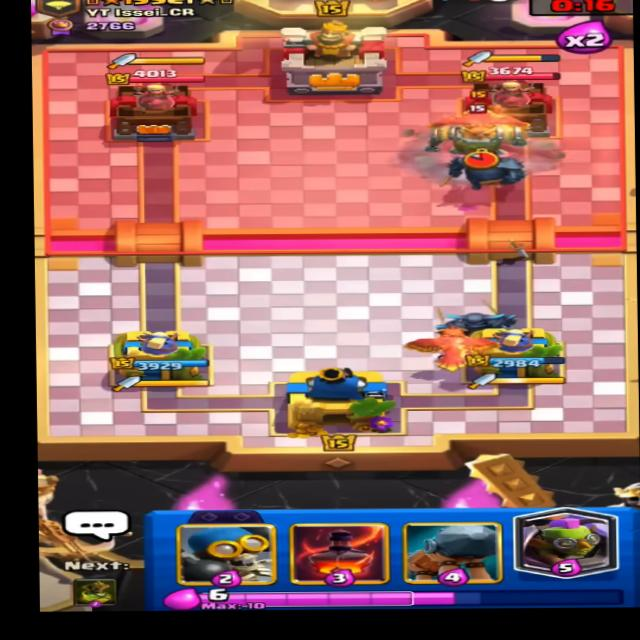goblin-machine: (421, 117, 529, 162)
pekka: (442, 144, 528, 190)
phoenix: (428, 88, 535, 138)
